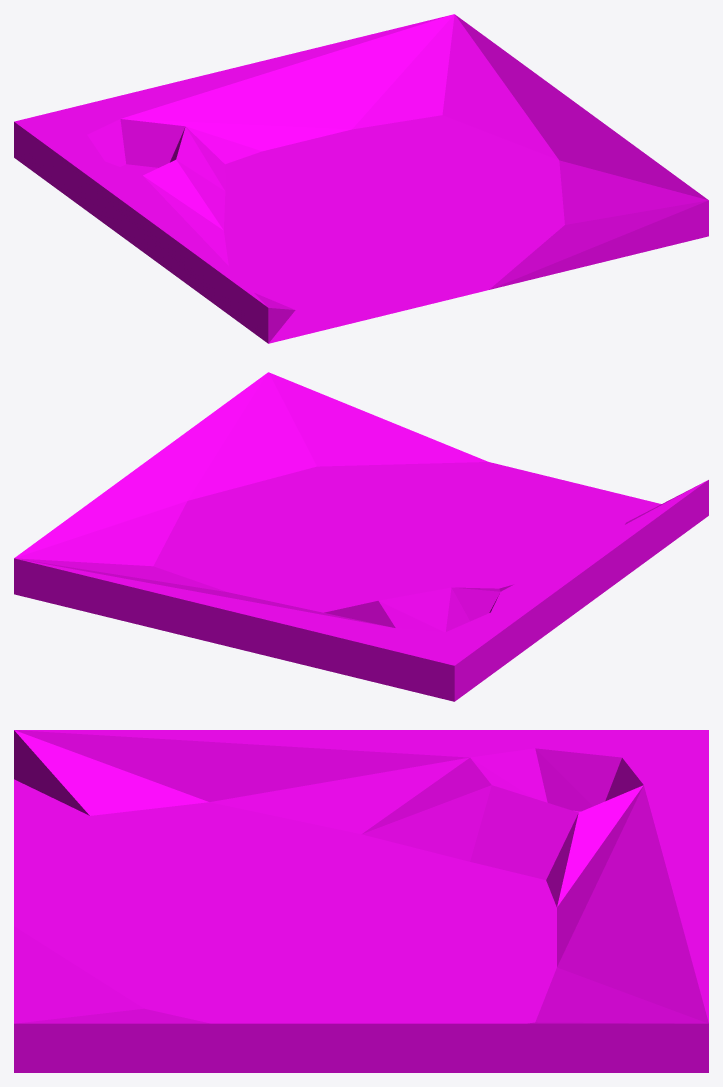
File: rockpoolwater.obj
3 views of the same model, one above another, from view 1: azimuth 30°, elevation 25°; view 2: azimuth 150°, elevation 25°; view 3: azimuth 270°, elevation 25° (orthographic). The views are drawn at different scales.
Visible parts, largest first — view 1: rockpoolwater_back; view 2: rockpoolwater_back; view 3: rockpoolwater_back.
Part boxes in pixels (<box>): rockpoolwater_back: <box>14,14,708,343</box>; rockpoolwater_back: <box>14,372,708,701</box>; rockpoolwater_back: <box>14,730,708,1072</box>.
Bounding box in the file's own units: 2.56 × 0.2 × 2.56.
